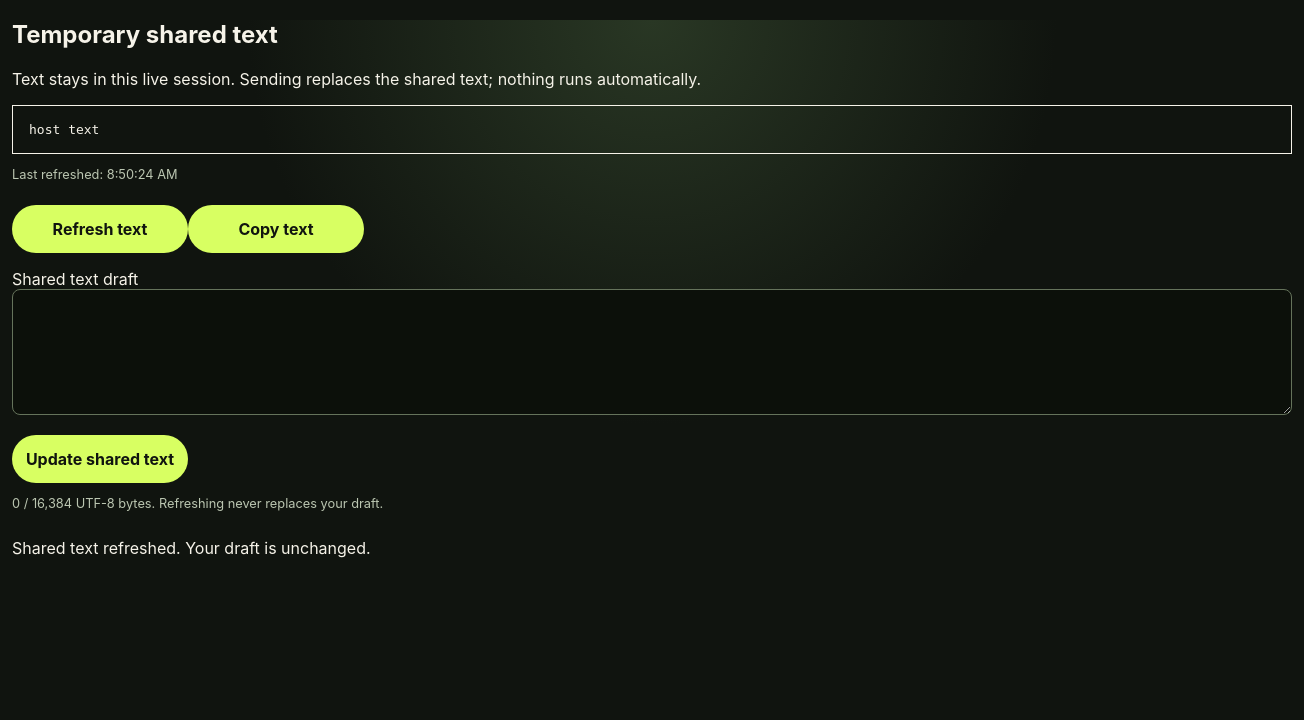
Test: reads and deliberately sends text and handles copy/send failures
Check: the text "host text" is shown, box [12,105,1292,154]
Click the button "Copy text" at (276, 229), box [188,205,364,253]
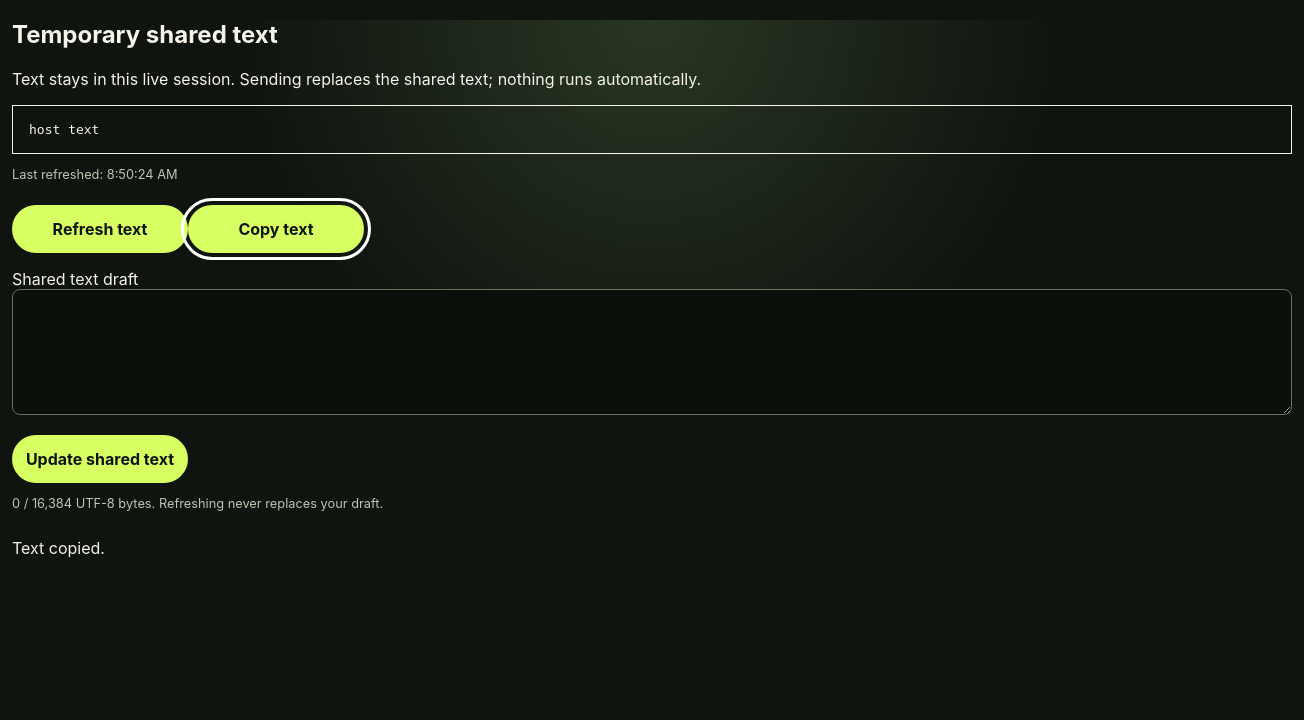
Type "reply" into the text box labelled "Shared text draft" at (652, 352), box [12,289,1292,415]
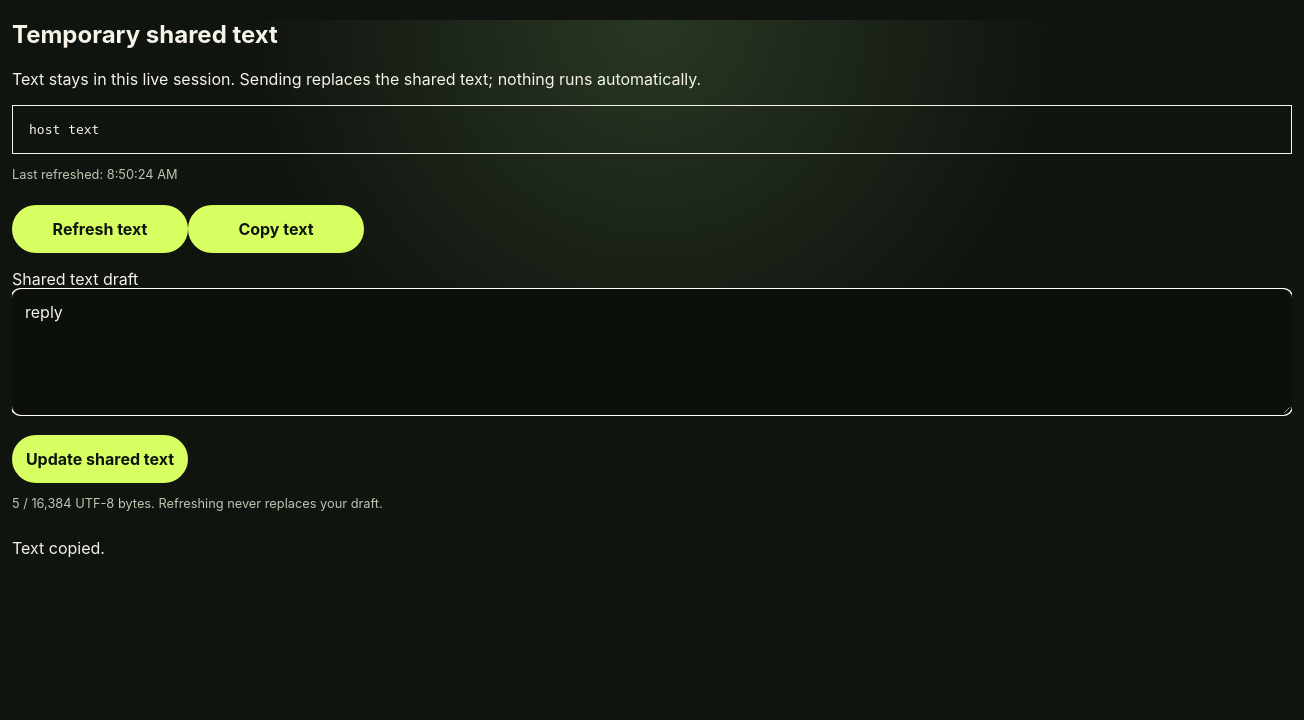
Click the button "Update shared text" at (100, 459), box [12,435,188,483]
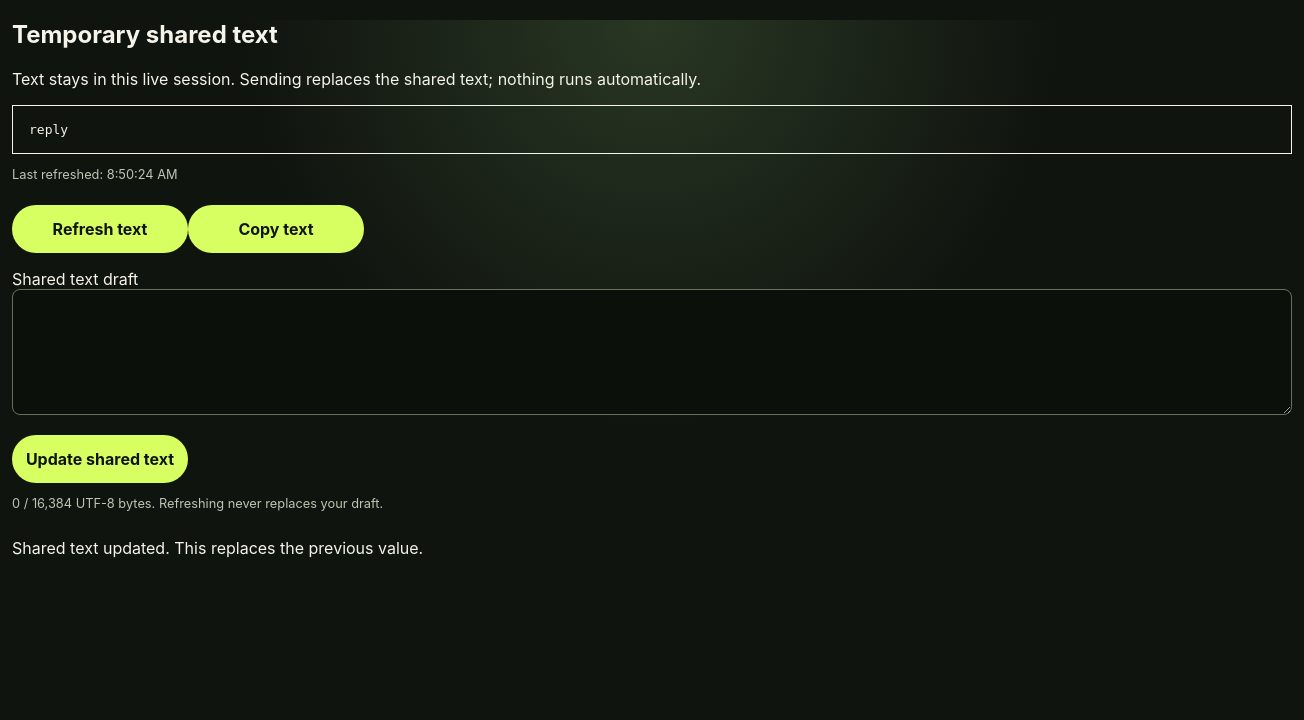
Check: the message shows "Shared text updated", box [12,538,423,558]
Click the button "Copy text" at (276, 229), box [188,205,364,253]
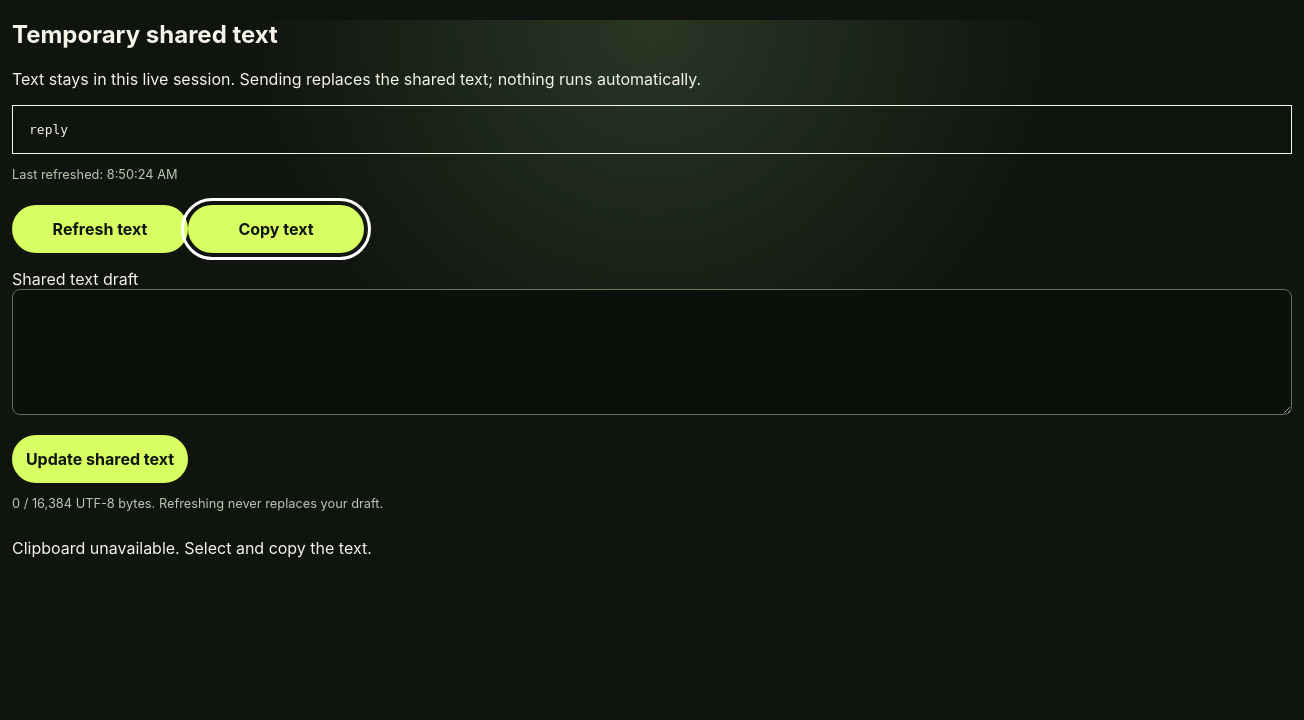
Check: the message shows "Clipboard unavailable", box [12,538,372,558]
Click the button "Refresh text" at (100, 229), box [12,205,188,253]
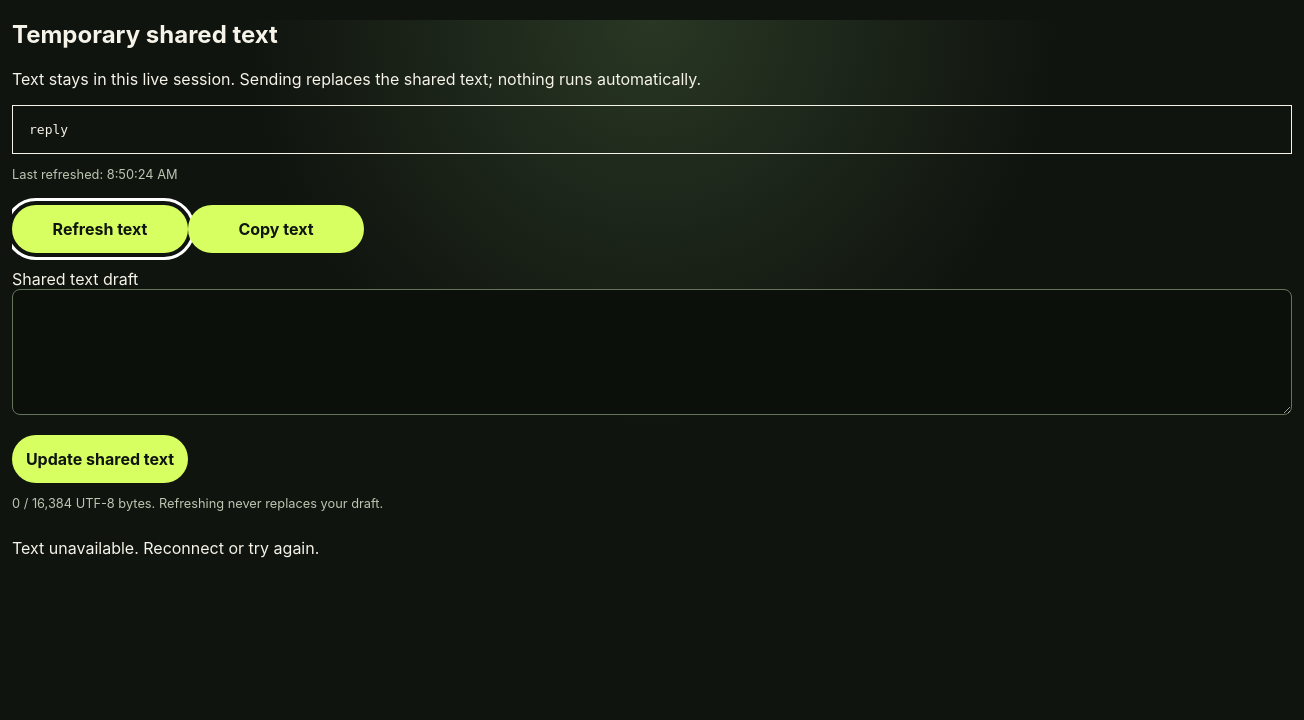
Check: the message shows "Text unavailable", box [12,538,319,558]
Click the button "Update shared text" at (100, 459), box [12,435,188,483]
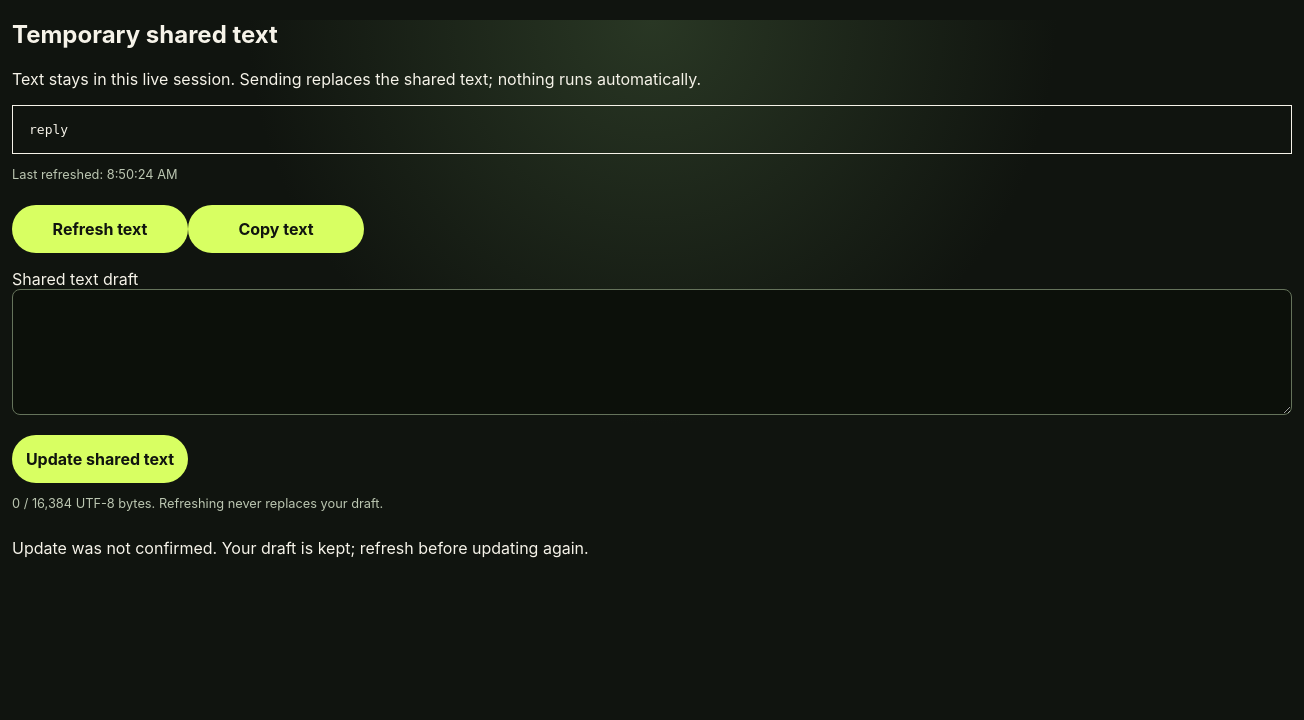
Check: the message shows "not confirmed", box [12,538,589,558]
